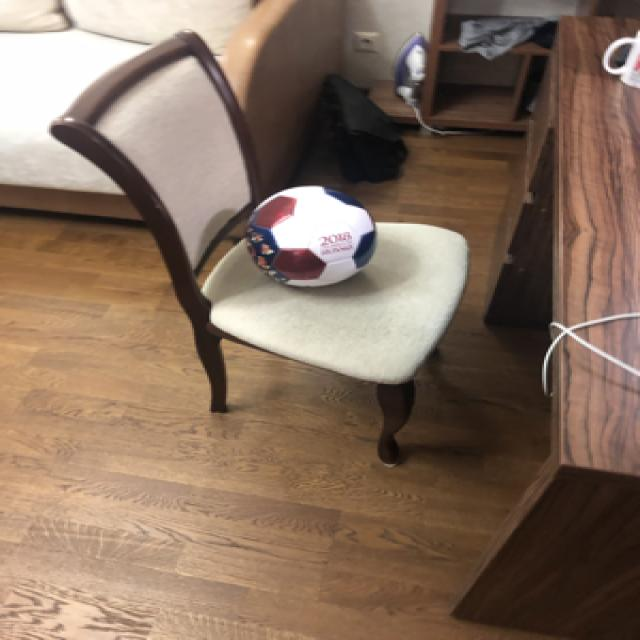soccer_ball: (239, 181, 375, 288)
